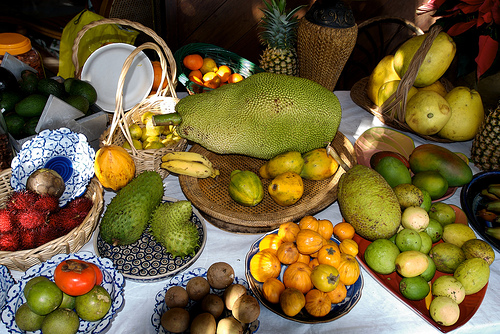jackfruit: (150, 71, 345, 163)
